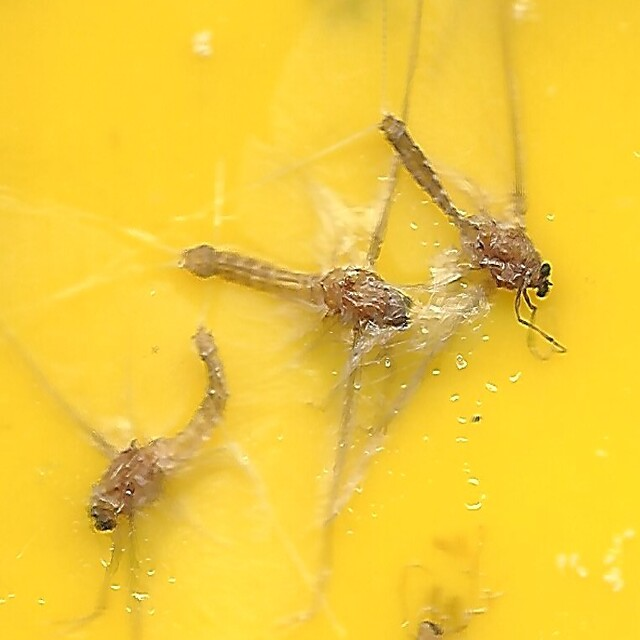Ephemeroptera: (381, 108, 556, 299), (84, 324, 230, 532), (174, 242, 418, 337)
